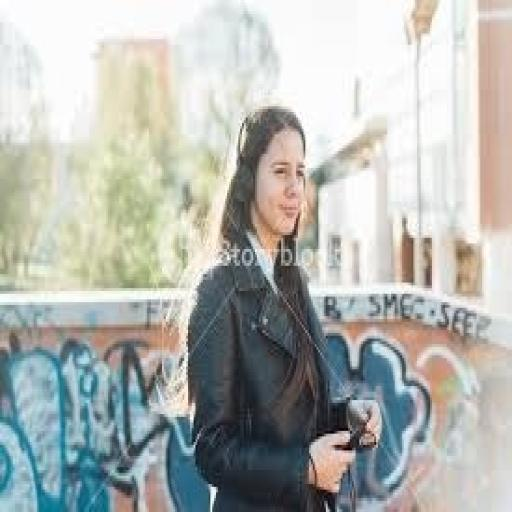listening_to_music: (184, 101, 384, 509)
